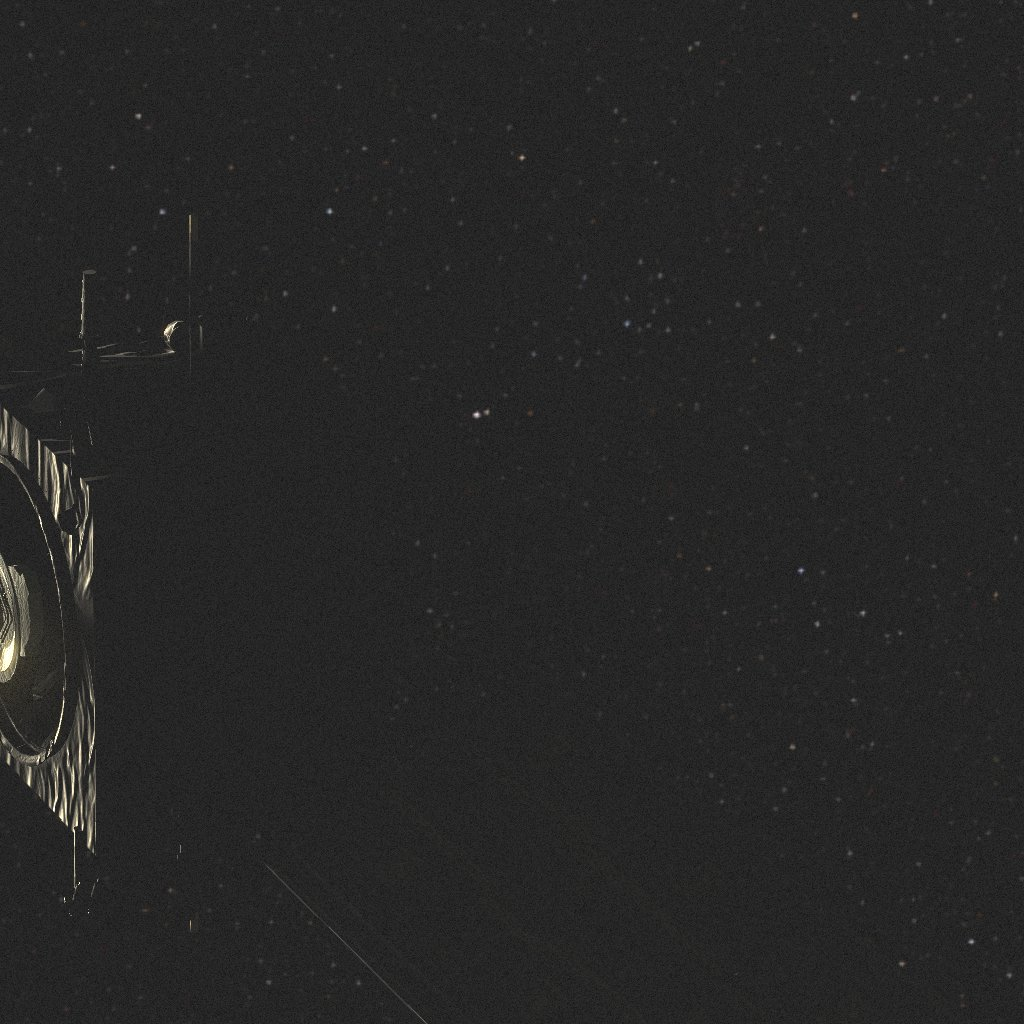smart_1: (9, 242, 898, 1014)
